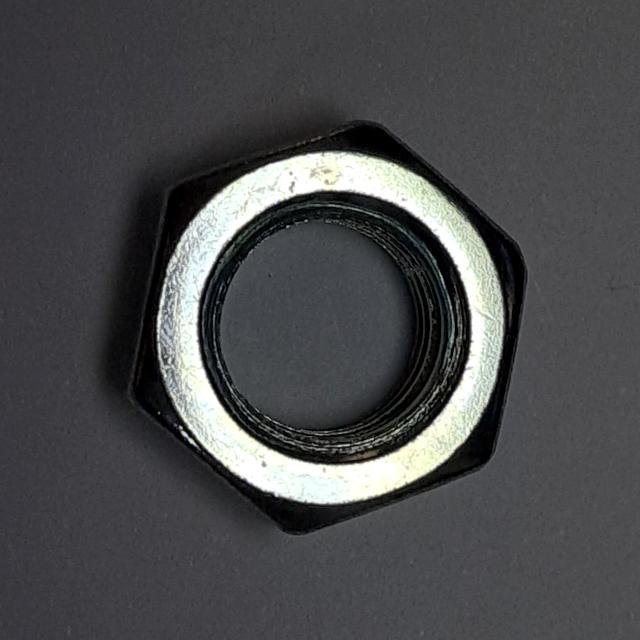Excellent: (104, 104, 539, 550)
